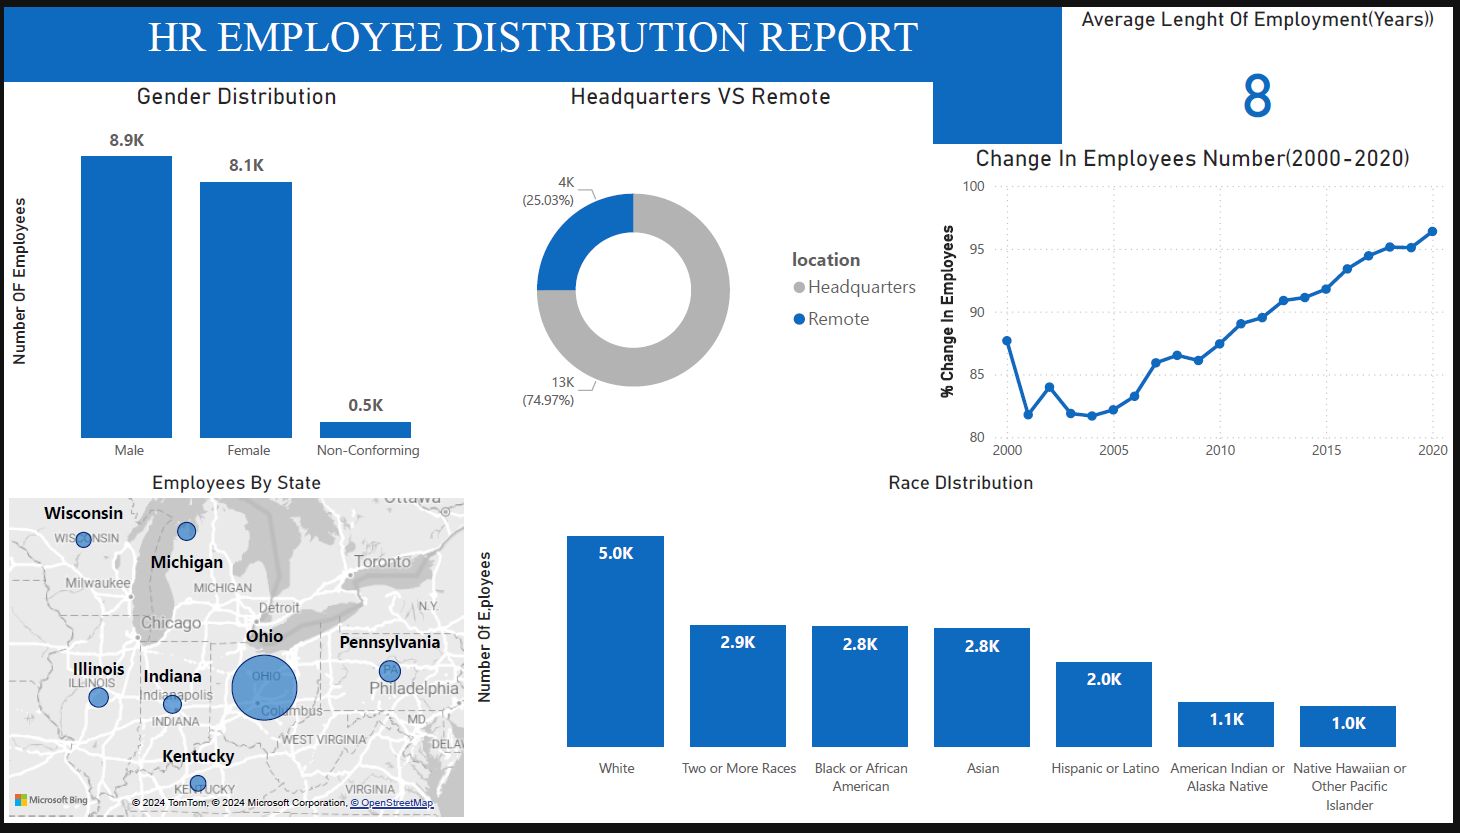

The page's visual inventory and layout, read from the dashboard file:
{"tool":"powerbi","page":{"name":"Page 1","canvas":[1280,720],"ordinal":0},"visuals":[{"type":"textbox","box":[0,0,935,121],"z":0},{"type":"card","title":"Average Lenght Of Employment(Years)) ","fields":{"Values":["Sum(avg_lenght_employment.avg_lenght_employment)"]},"box":[935.5,0,344.7,121.2],"z":1000},{"type":"columnChart","title":"Gender Distribution ","fields":{"Category":["gender.gender"],"Y":["Sum(gender.count)"]},"box":[0,67,411,343],"z":2000},{"type":"donutChart","title":"Headquarters VS Remote","fields":{"Category":["location.location"],"Y":["Sum(location.count)"]},"box":[411,67,409,343],"z":3000},{"type":"lineChart","title":"Change In Employees Number(2000-2020)","fields":{"Category":["employee_change.year"],"Y":["Sum(employee_change.net_change_percent)"]},"box":[819.7,121.2,460.5,289.1],"z":4000},{"type":"map","title":"Employees By State","fields":{"Size":["Sum(state.count)"],"Category":["state.location_state"]},"box":[0,410.3,411.2,309.7],"z":5000},{"type":"clusteredColumnChart","title":"Race DIstribution","fields":{"Category":["race.race"],"Y":["Sum(race.count)"]},"box":[411.2,410.3,869,309.7],"z":6000}]}

Visuals, with their boxes in screenshot pixels (x1, y1, x2, y2), scaled from the page's 1280x720 canvas onto the 1460x833 screenshot:
textbox: rect(0, 0, 1066, 140)
"Average Lenght Of Employment(Years)) " card: rect(1067, 0, 1459, 140)
"Gender Distribution " columnChart: rect(0, 78, 469, 474)
"Headquarters VS Remote" donutChart: rect(469, 78, 935, 474)
"Change In Employees Number(2000-2020)" lineChart: rect(935, 140, 1459, 475)
"Employees By State" map: rect(0, 475, 469, 832)
"Race DIstribution" clusteredColumnChart: rect(469, 475, 1459, 832)
